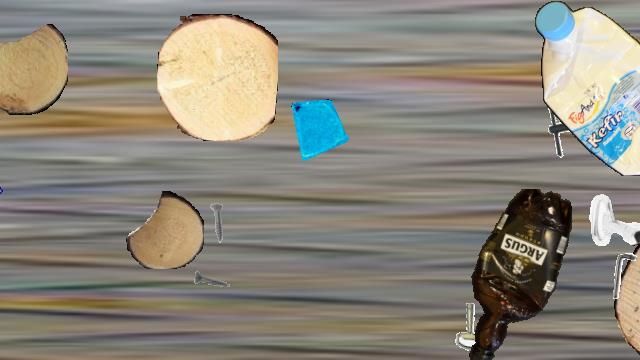glass: (288, 99, 352, 163), (0, 148, 5, 214)
metal: (537, 99, 597, 159), (445, 299, 501, 355), (586, 191, 640, 249), (599, 249, 640, 303), (193, 258, 235, 300), (197, 202, 239, 244)
plastic: (459, 189, 579, 359), (535, 1, 640, 175)
wood: (157, 14, 277, 140), (0, 23, 68, 115), (126, 191, 204, 269), (614, 233, 640, 359)
